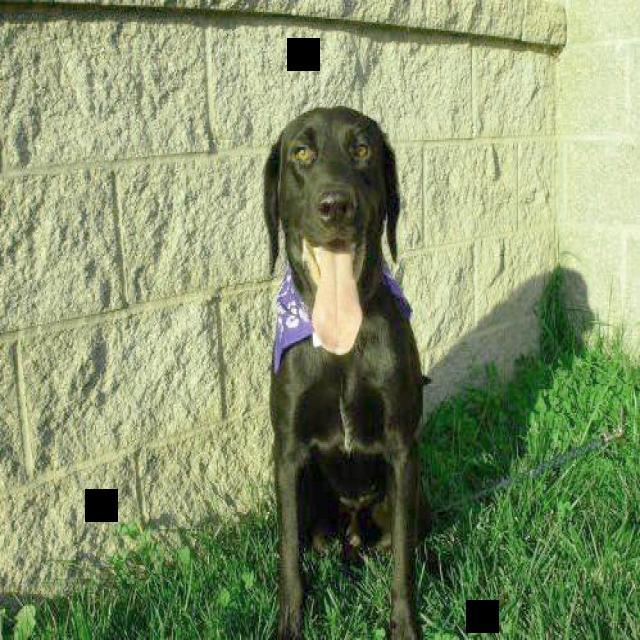adult_dog: (263, 104, 429, 640)
